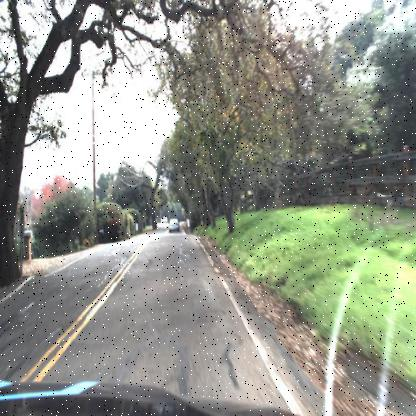car: (165, 216, 182, 236), (160, 213, 168, 228)
